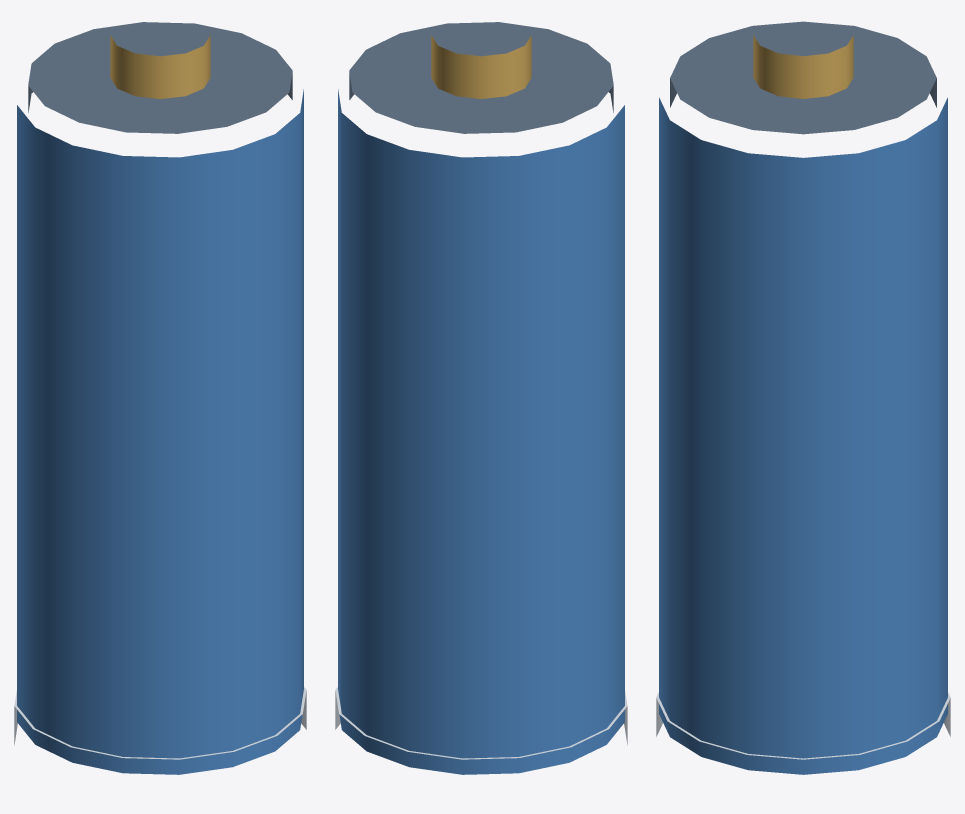
Rendered from battery-aa.glb.
The picture shows the model from 3 angles, left to right: view 1: azimuth 30°, elevation 25°; view 2: azimuth 150°, elevation 25°; view 3: azimuth 270°, elevation 25°; orthographic projection.
Parts seen in each view (by area): view 1: Pila AA-blue, Pila AA-dark, Pila AA-brass, Pila AA-silver; view 2: Pila AA-blue, Pila AA-dark, Pila AA-brass, Pila AA-silver; view 3: Pila AA-blue, Pila AA-dark, Pila AA-brass, Pila AA-silver.
Part boxes in pixels (x1,y1,x2,y2): Pila AA-blue: [17, 89, 303, 774]; Pila AA-dark: [28, 22, 292, 133]; Pila AA-brass: [110, 35, 210, 98]; Pila AA-silver: [14, 687, 306, 759]; Pila AA-blue: [338, 89, 624, 774]; Pila AA-dark: [349, 22, 613, 133]; Pila AA-brass: [431, 35, 531, 98]; Pila AA-silver: [335, 687, 627, 759]; Pila AA-blue: [659, 97, 947, 774]; Pila AA-dark: [670, 21, 936, 134]; Pila AA-brass: [753, 35, 853, 98]; Pila AA-silver: [656, 692, 950, 759].
Bounding box in the file's own units: 1.06 × 2.79 × 1.06.
